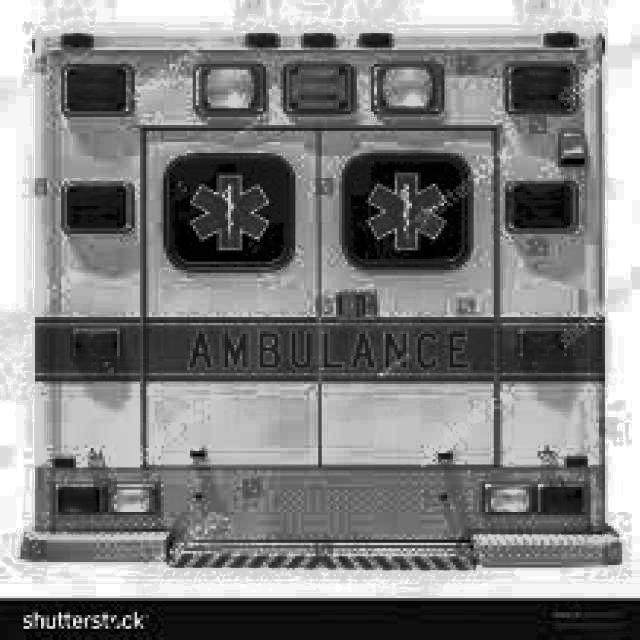LCV: (30, 36, 618, 562)
